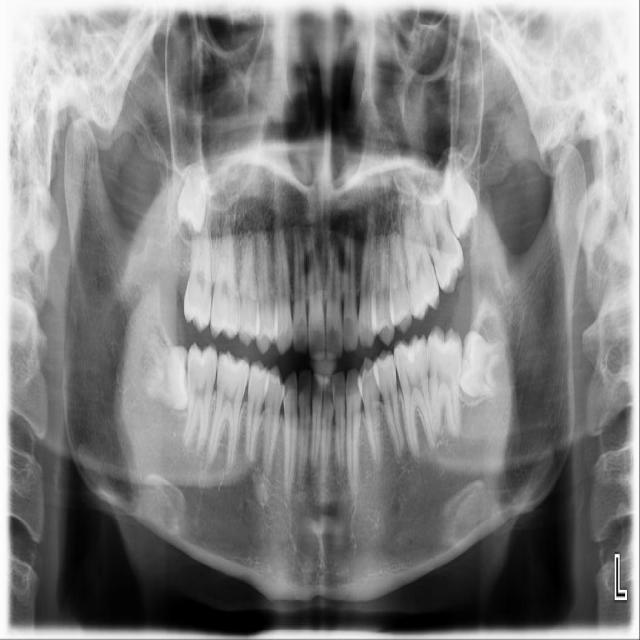impacted tooth: (457, 332, 509, 397), (140, 340, 188, 405), (445, 155, 480, 235), (177, 162, 209, 233)
